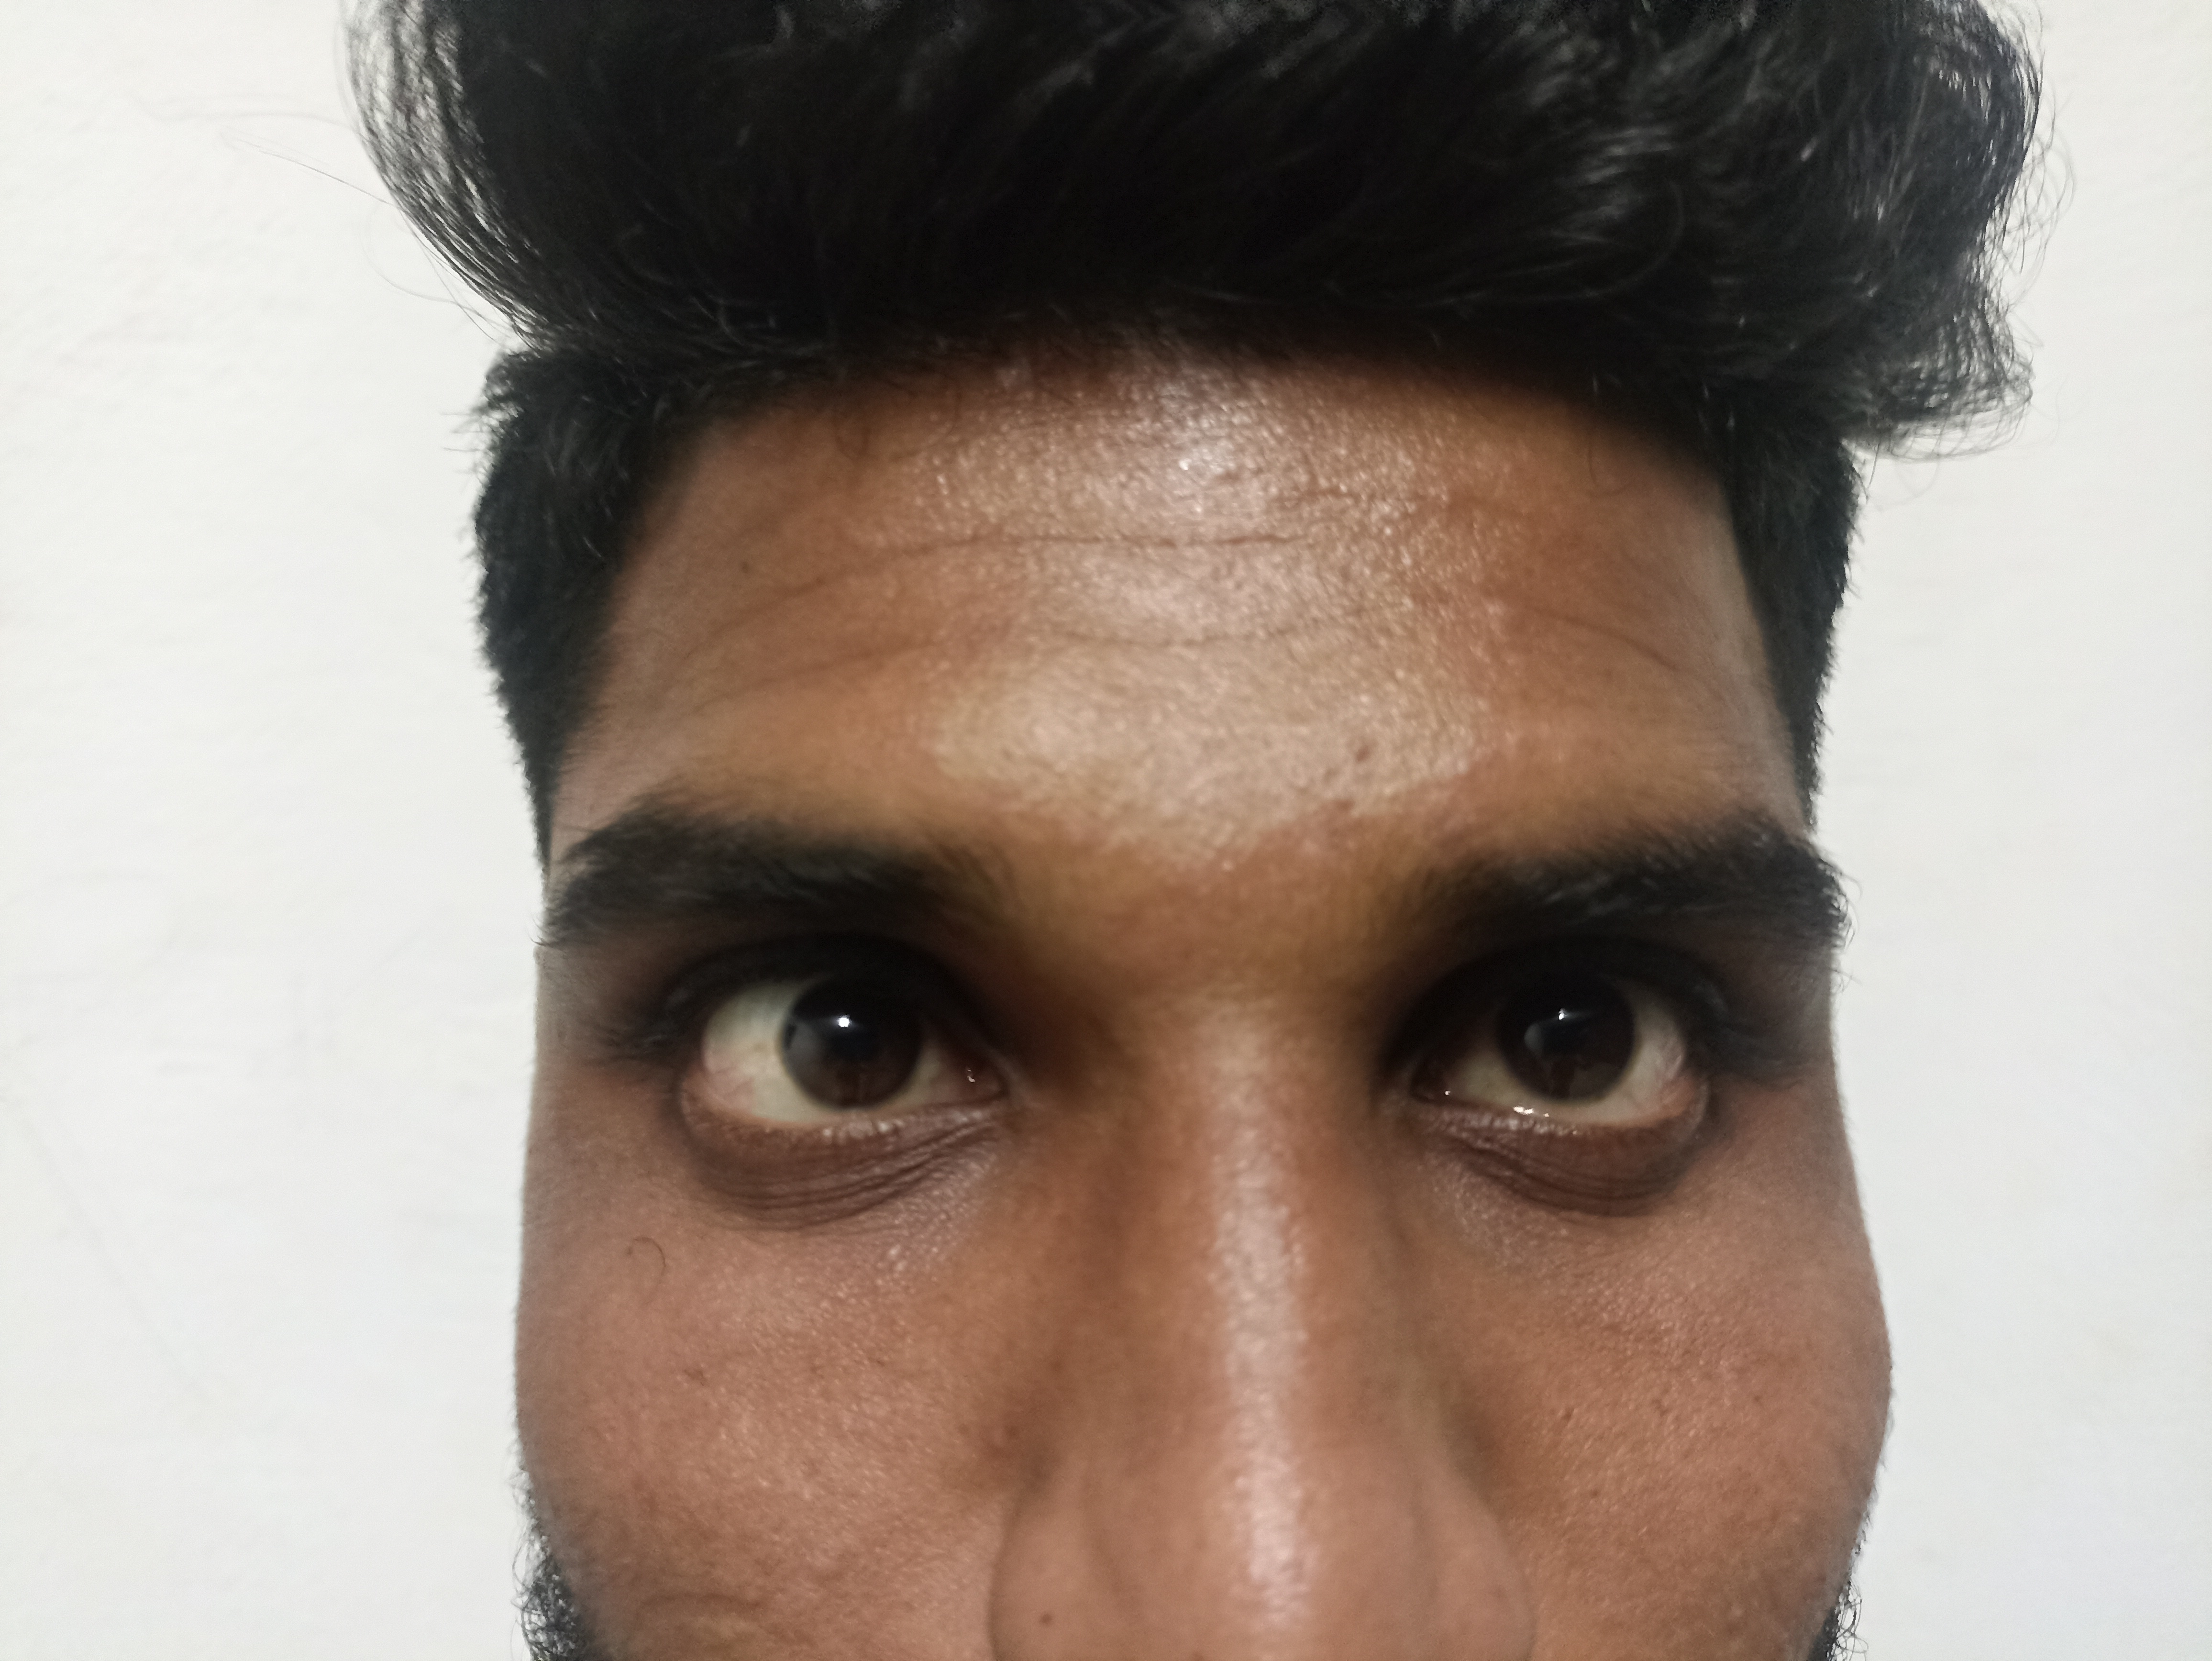EYE UP: (476, 771, 1118, 1282), (1314, 768, 1893, 1331)
